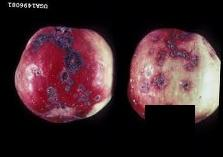rotten apple: (13, 26, 115, 125), (129, 26, 220, 127)
